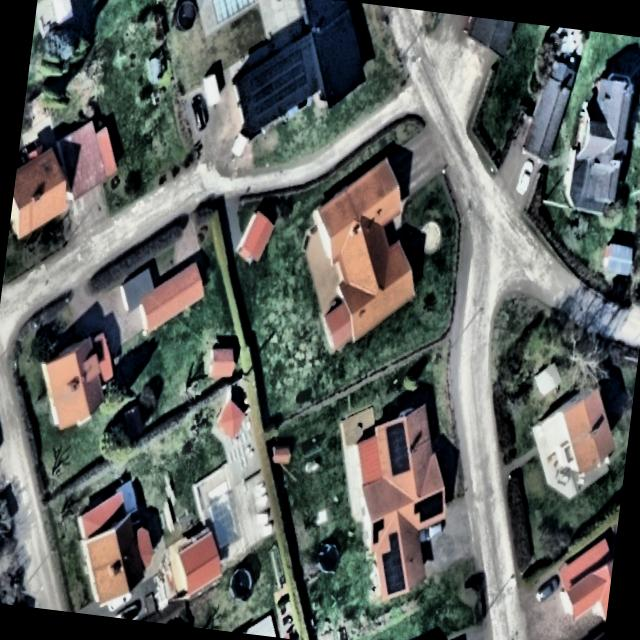roof_pv: (274, 42, 316, 108), (243, 56, 279, 115), (377, 554, 409, 599), (411, 489, 446, 526), (381, 419, 413, 450), (382, 446, 414, 476), (368, 518, 388, 548), (385, 530, 402, 554)
